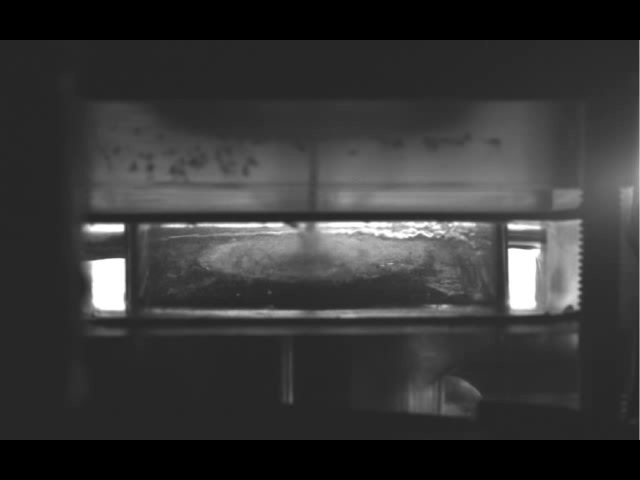Zona de teste: (203, 229, 423, 281)
